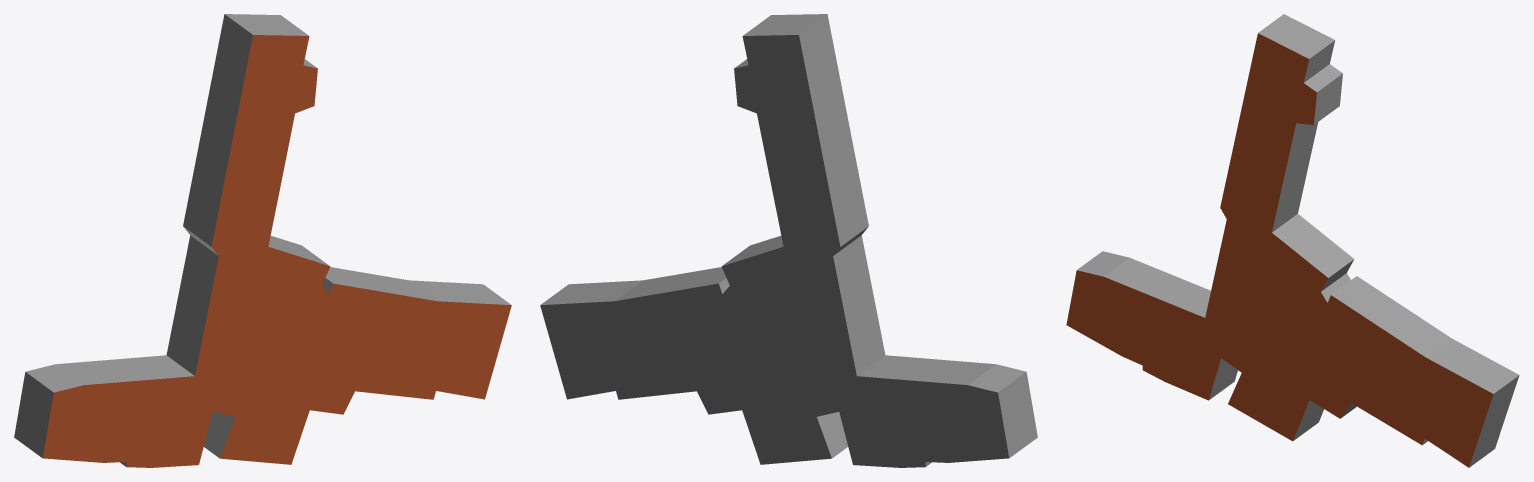
File: construction_2299_assumed_A_Casa_h6m.obj
3 renders of one model, left to right at view 1: azimuth 30°, elevation 25°; view 2: azimuth 150°, elevation 25°; view 3: azimuth 330°, elevation 25°, orthographic. The views are drawn at different scales.
Parts seen in each view (by area): view 1: construction_2299_assumed_A_Casa; view 2: construction_2299_assumed_A_Casa; view 3: construction_2299_assumed_A_Casa.
Part boxes in pixels (left/top/right/bottom): construction_2299_assumed_A_Casa: left=14, top=14, right=511, bottom=467; construction_2299_assumed_A_Casa: left=540, top=14, right=1037, bottom=467; construction_2299_assumed_A_Casa: left=1066, top=14, right=1519, bottom=467.
Bounding box in the file's own units: 56.88 × 50.88 × 6.
